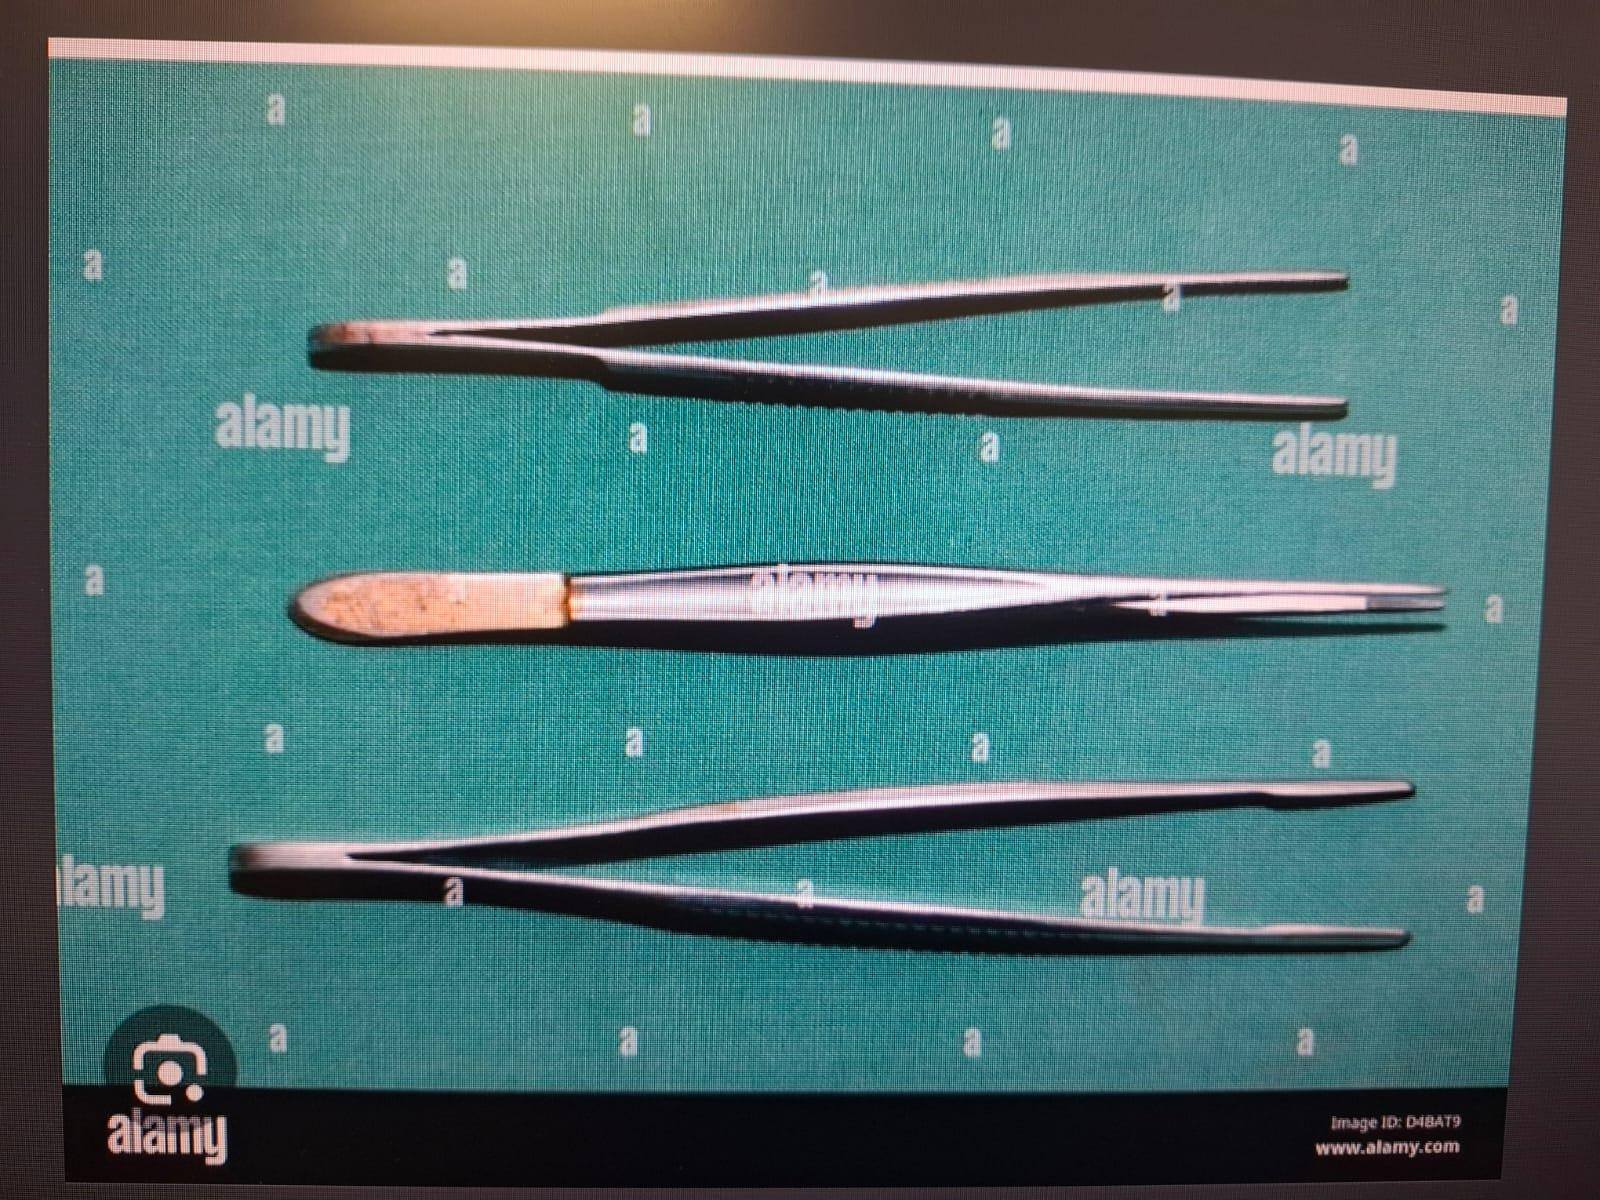Disscting Forceps: (222, 770, 1443, 976), (290, 250, 1369, 450), (262, 521, 1466, 668)
